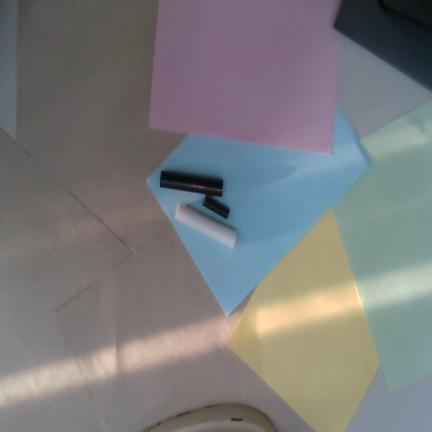Cilindro: (174, 202, 238, 249), (160, 170, 223, 197), (202, 195, 230, 219)
